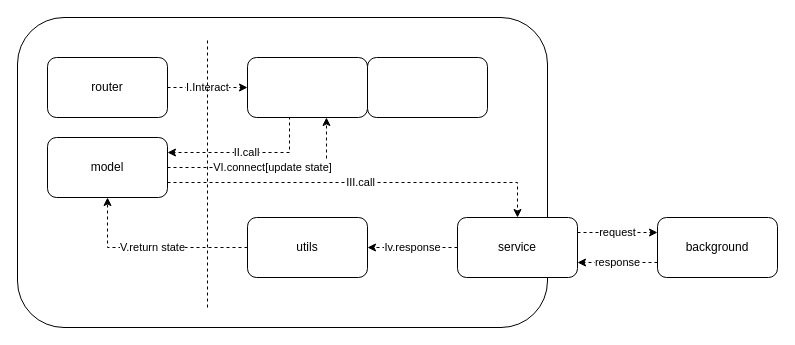
Some shapes in this 795 by 345 pixel diagram are drawn without their labels. The shapes that lost their labels are listed below. From the top down, each one's box as (x1, y1, x2, y2) in pixels, then its label:
(246, 56, 368, 118): View[routes]
(366, 56, 488, 118): components
